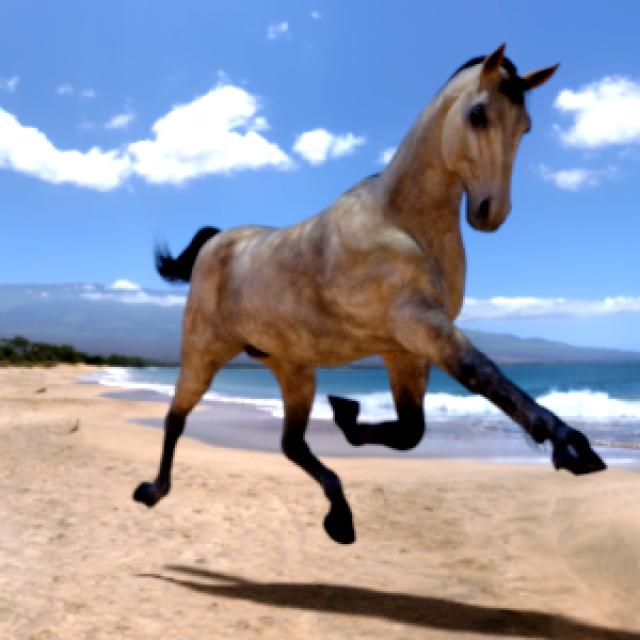horse: (134, 46, 605, 542)
